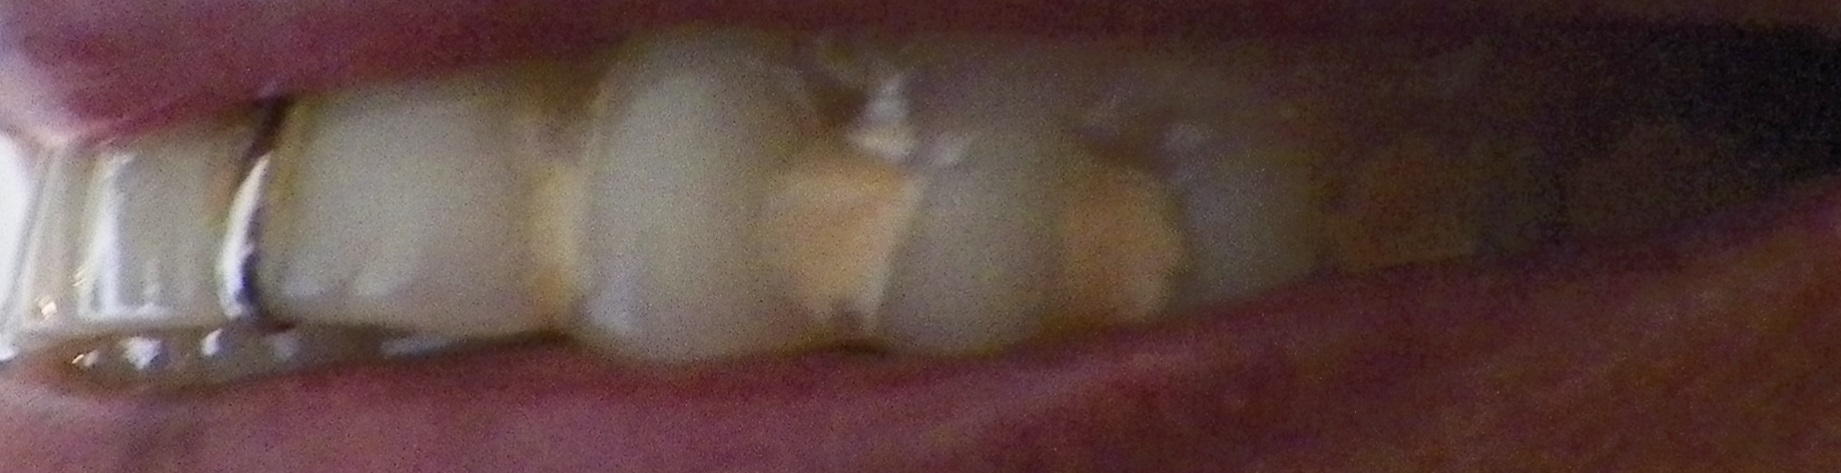boca: (22, 46, 1746, 393)
